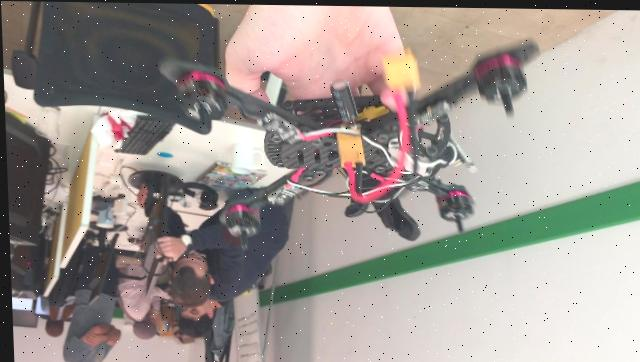drone: (157, 31, 559, 255)
